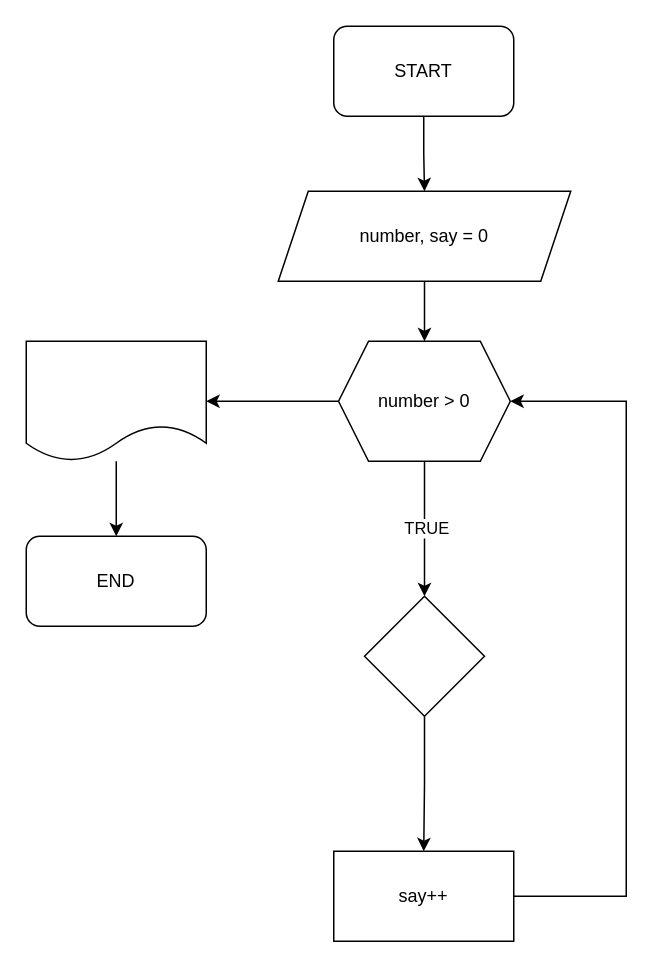
Some shapes in this 665 by 968 pixel diagram are drawn without their labels. Here are the shapes that lost their labels. From the top down, the centre of each, then its label:
At pixel 115 400: "say".
At pixel 423 655: "num /= 10".
